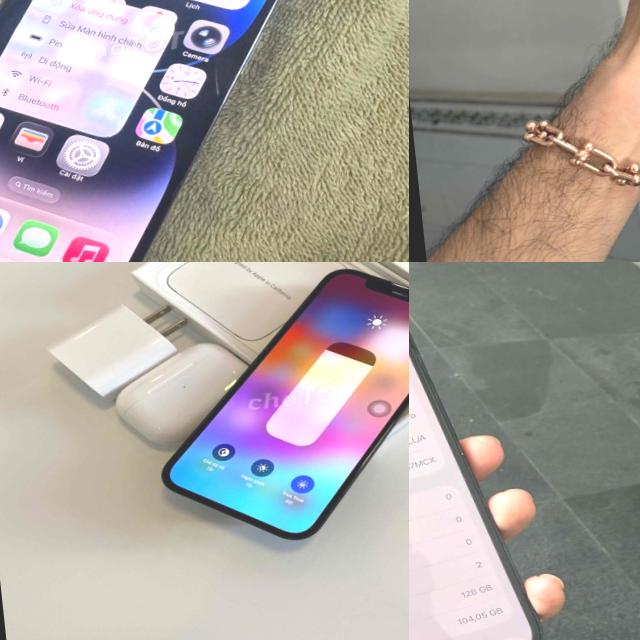gen_12_13: (136, 262, 409, 556)
gen_14: (0, 0, 362, 262), (409, 283, 549, 640)
